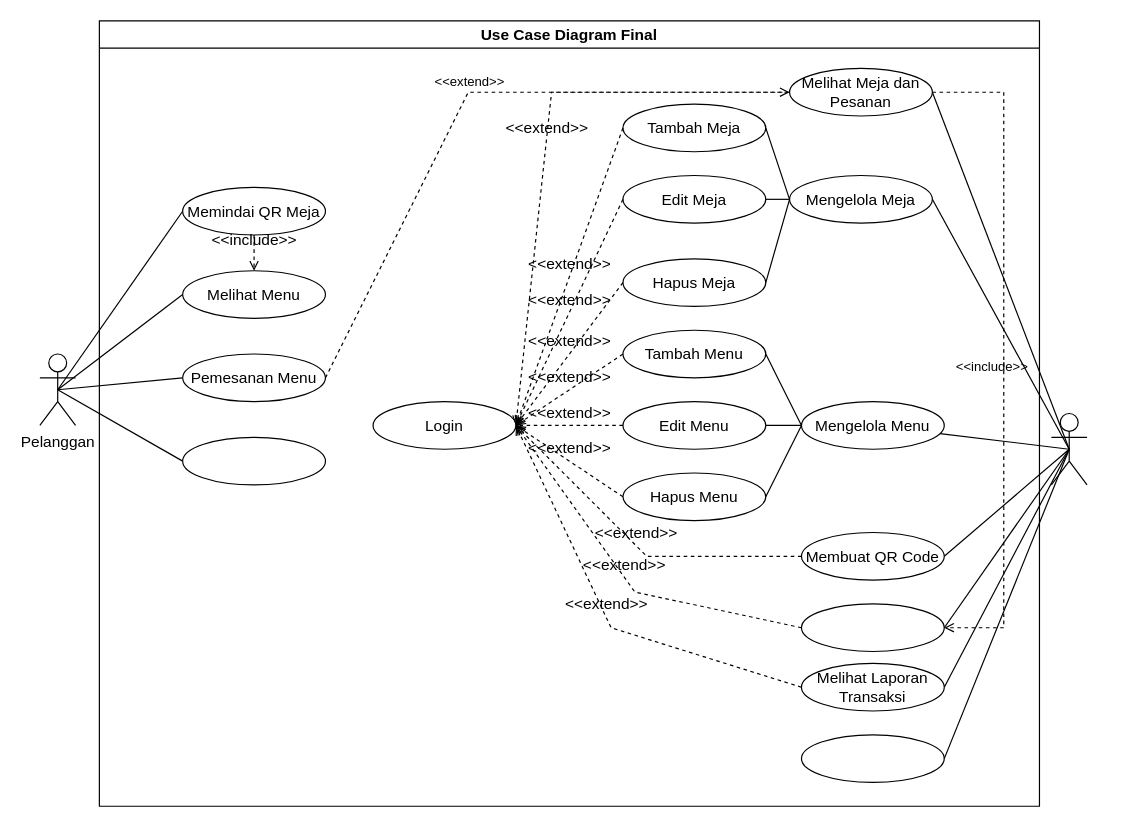
Image size: 1123x827. Some labels were removed from this diagram. Here are the shapes that lost their labels. From the top down, the centre of each, then its label:
the point at 253,460: Memberikan Umpan balik
the point at 1068,448: Pengelola
the point at 872,627: Memproses Pembayaran
the point at 872,758: Logout
